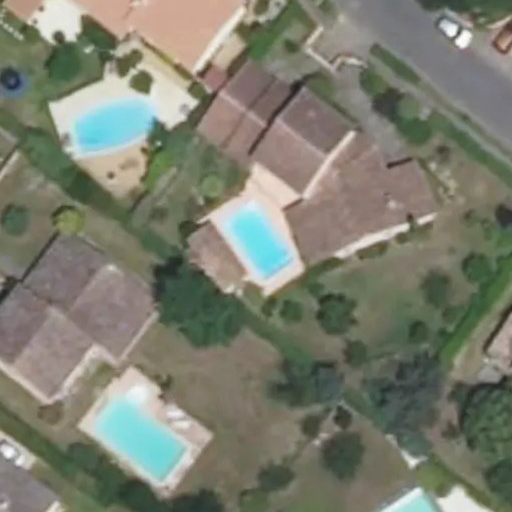pool: (94, 393, 186, 483), (227, 205, 293, 280), (73, 101, 154, 152)
